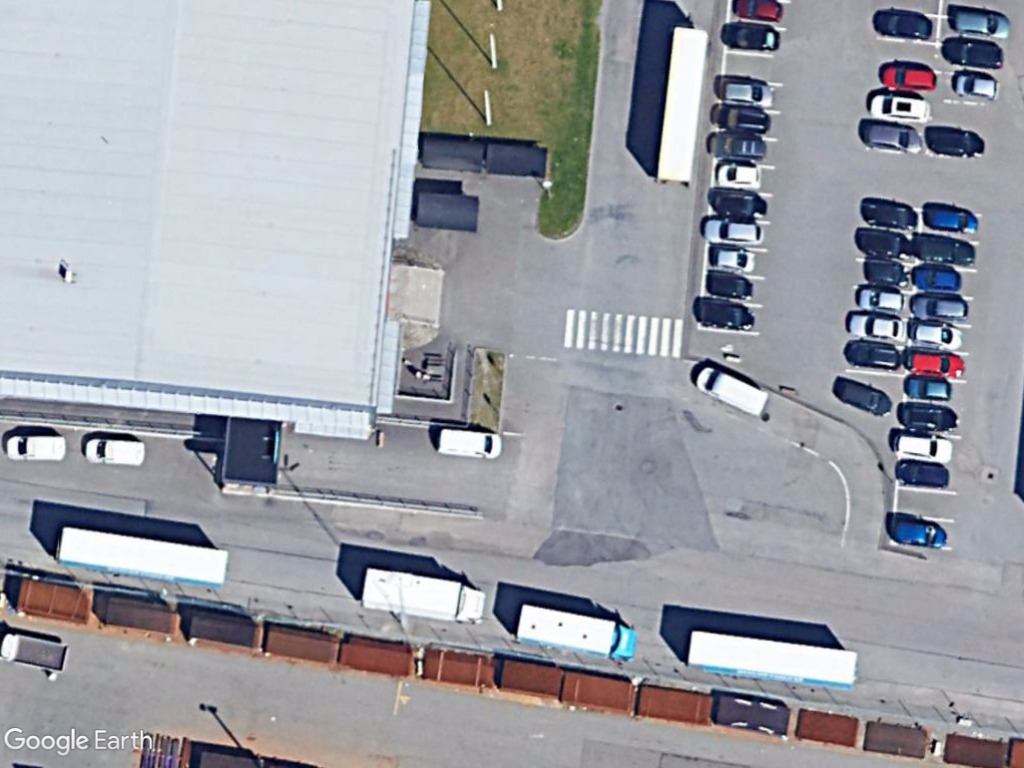car: (838, 305, 915, 351), (853, 113, 925, 159), (860, 85, 937, 127), (939, 27, 1009, 71), (698, 212, 773, 253), (715, 14, 787, 55), (886, 428, 958, 469), (916, 197, 983, 239), (705, 97, 775, 137), (945, 4, 1018, 42), (923, 121, 988, 163), (886, 510, 949, 553), (876, 58, 945, 97), (870, 4, 936, 44), (699, 236, 760, 279), (715, 70, 780, 110), (909, 289, 973, 326), (947, 67, 1006, 107), (850, 283, 915, 319), (904, 346, 970, 381), (906, 263, 970, 298), (712, 156, 770, 193), (906, 319, 969, 351), (896, 369, 953, 404)
truck: (506, 597, 642, 669), (357, 563, 496, 631)
van: (688, 363, 775, 422), (76, 429, 156, 475), (431, 421, 512, 465), (2, 428, 76, 464)
